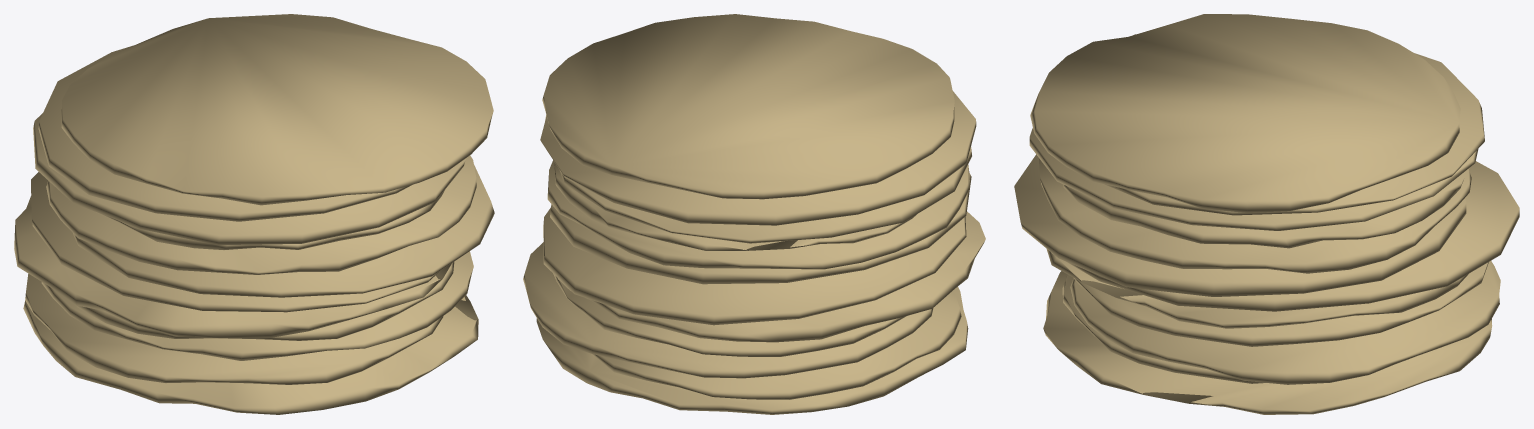
File: stack.fbx
3 renders of one model, left to right at view 1: azimuth 30°, elevation 25°; view 2: azimuth 150°, elevation 25°; view 3: azimuth 270°, elevation 25°, orthographic. The views are drawn at different scales.
Visible parts, largest first — view 1: stack; view 2: stack; view 3: stack.
Part boxes in pixels (x1=…): stack: x1=14, y1=14, x2=494, y2=414; stack: x1=523, y1=14, x2=985, y2=414; stack: x1=1014, y1=14, x2=1519, y2=414.
Bounding box in the file's own units: 256 × 132 × 269.
